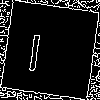I: (24, 24, 46, 72)
